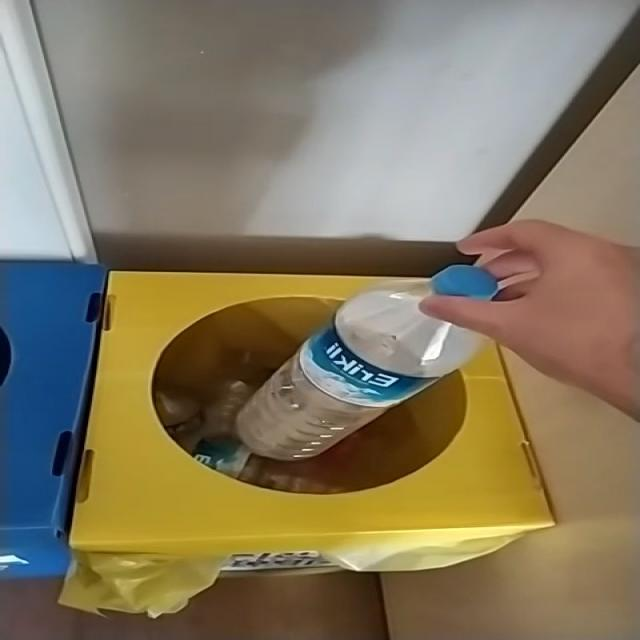Plastic: (236, 265, 499, 461)
